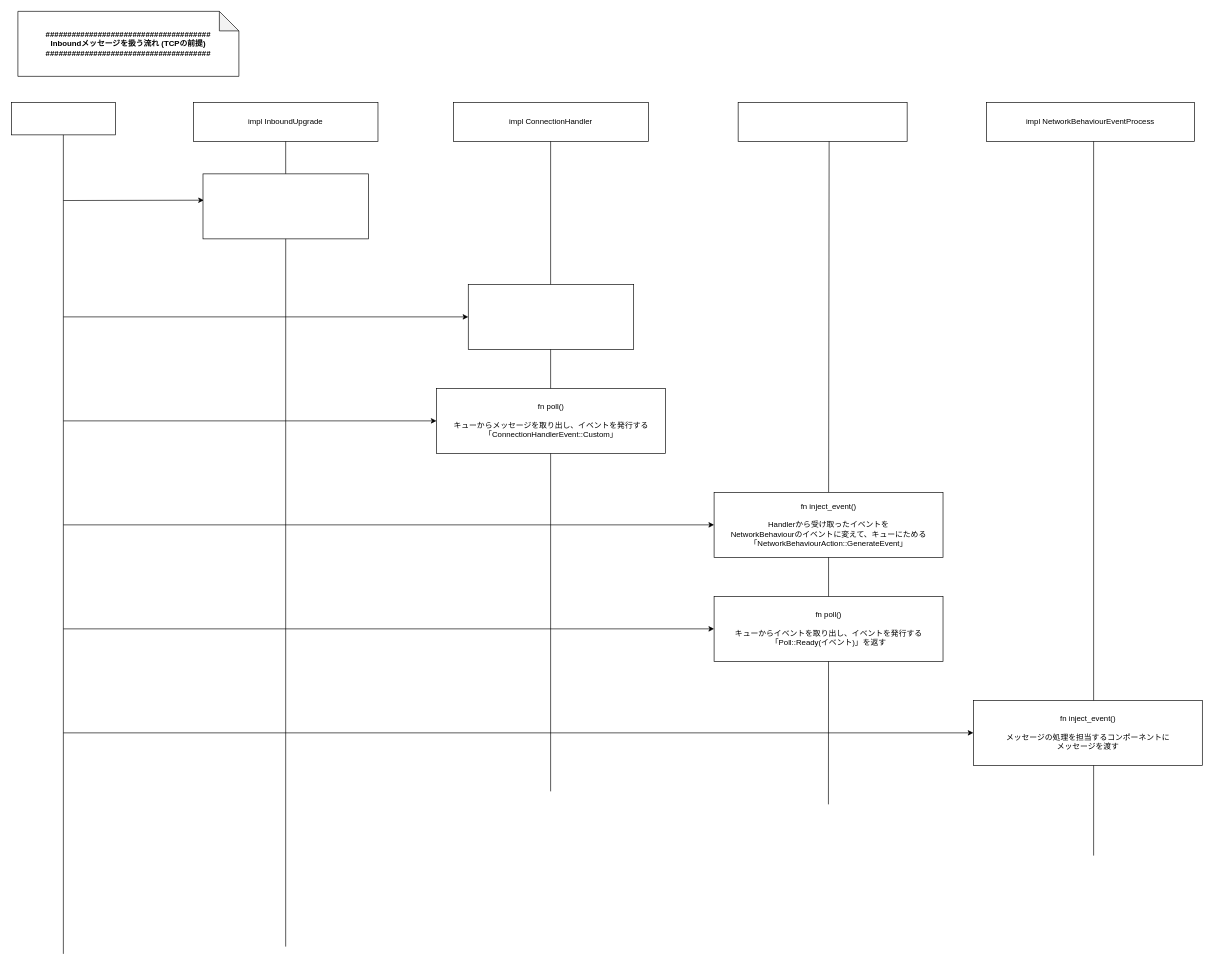
Some shapes in this 1214 by 966 pixel diagram are drawn without their labels. The centre of each missing label's shape, as x and y in pixels:
fn inject_fully_negotiated_inbound() デコードしたメッセージをキューにためる: (x=551, y=316)
fn upgrade_inbound() 受信したメッセージをデコードする: (x=285, y=206)
impl NetworkBehaviour: (x=822, y=121)
libp2p: (x=63, y=118)
